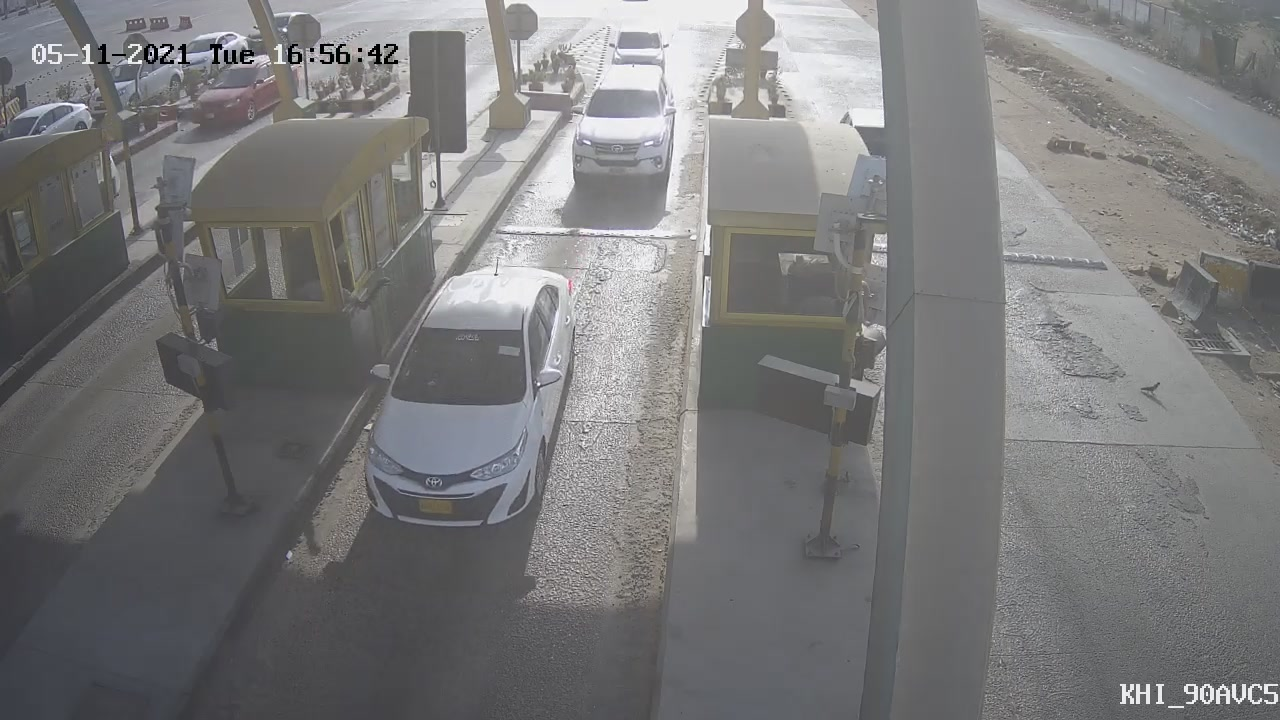F1: (337, 247, 596, 552), (550, 49, 695, 211)
